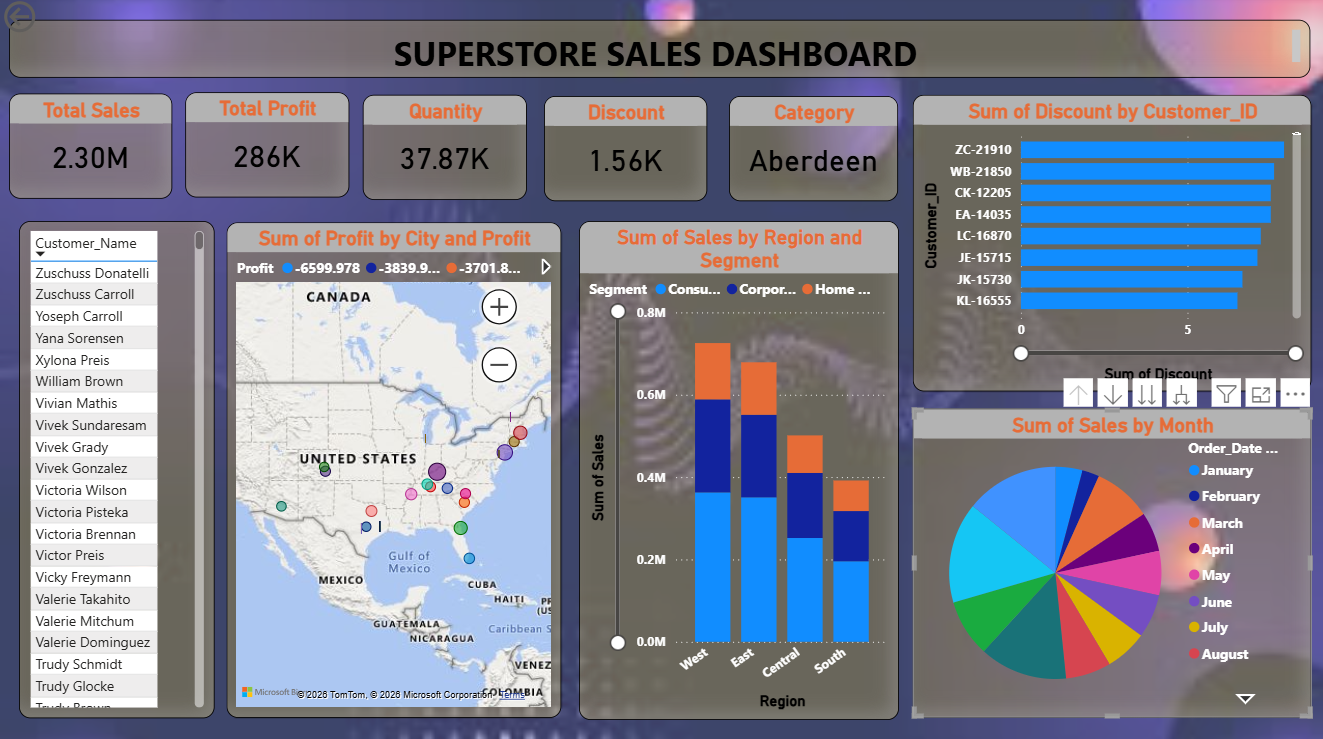

Layout of this report page (visuals, bound fields, positions):
{"tool":"powerbi","page":{"name":"Page 1","canvas":[1280,720],"ordinal":0},"visuals":[{"type":"card","title":"Total Sales","fields":{"Values":["superstore.Total sales"]},"box":[9.6,94.7,157.8,101.5],"z":0},{"type":"card","title":"Total Profit","fields":{"Values":["superstore.Total profit"]},"box":[180,93.3,158.3,101.7],"z":1000},{"type":"card","title":"Quantity","fields":{"Values":["Sum(superstore.Quantity)"]},"box":[351.2,95,158.8,101.2],"z":2000},{"type":"card","title":"Discount","fields":{"Values":["Sum(superstore.Discount)"]},"box":[526.2,96.2,157.5,101.2],"z":3000},{"type":"columnChart","fields":{"Category":["superstore.Region"],"Y":["Sum(superstore.Sales)"],"Series":["superstore.Segment"]},"box":[560,217.5,308.8,481.2],"z":4000},{"type":"pieChart","fields":{"Y":["Sum(superstore.Sales)"],"Category":["superstore.State"]},"box":[881.7,398.3,385,298.3],"z":5000},{"type":"map","fields":{"Category":["superstore.City"],"Size":["Sum(superstore.Profit)"],"Series":["superstore.Profit"]},"box":[220,218.3,323.3,478.3],"z":6000},{"type":"textbox","box":[10,22.5,1256.2,56.2],"z":7000},{"type":"barChart","fields":{"Category":["superstore.Customer_ID","superstore.Product_ID"],"Y":["Sum(superstore.Discount)"]},"box":[881.7,95,385,286.7],"z":8000},{"type":"tableEx","fields":{"Values":["superstore.Customer_Name","superstore.City"]},"box":[18.8,217.5,188.8,480],"z":9000},{"type":"card","title":"Category","fields":{"Values":["Min(superstore.City)"]},"box":[705,96.7,163.3,101.7],"z":10000}]}

Visuals, with their boxes in screenshot pixels (x1, y1, x2, y2), scaled from the page's 1280x720 canvas onto the 1323x739 screenshot:
"Total Sales" card: [10,97,173,201]
"Total Profit" card: [186,96,350,200]
"Quantity" card: [363,98,527,201]
"Discount" card: [544,99,707,203]
columnChart - superstore.Region x Sum(superstore.Sales): [579,223,898,717]
pieChart - Sum(superstore.Sales) x superstore.State: [911,409,1309,715]
map - superstore.City x Sum(superstore.Profit): [227,224,562,715]
textbox: [10,23,1309,81]
barChart - superstore.Customer_ID x superstore.Product_ID: [911,98,1309,392]
tableEx - superstore.Customer_Name x superstore.City: [19,223,215,716]
"Category" card: [729,99,897,204]
